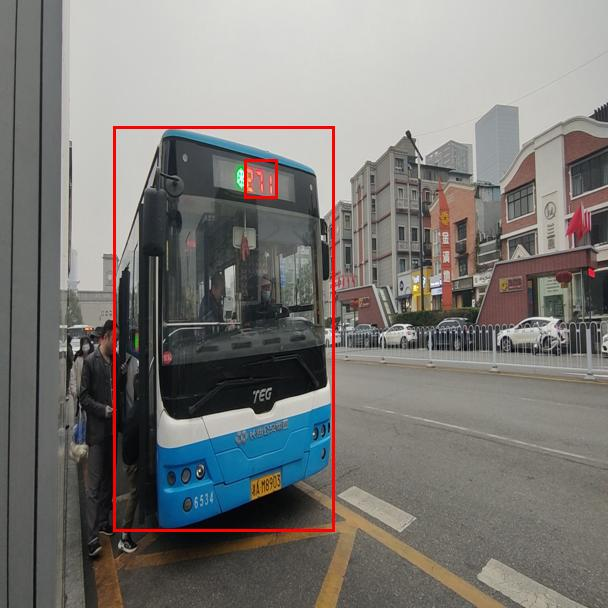bus: (113, 126, 334, 531)
screen: (244, 159, 277, 198)
